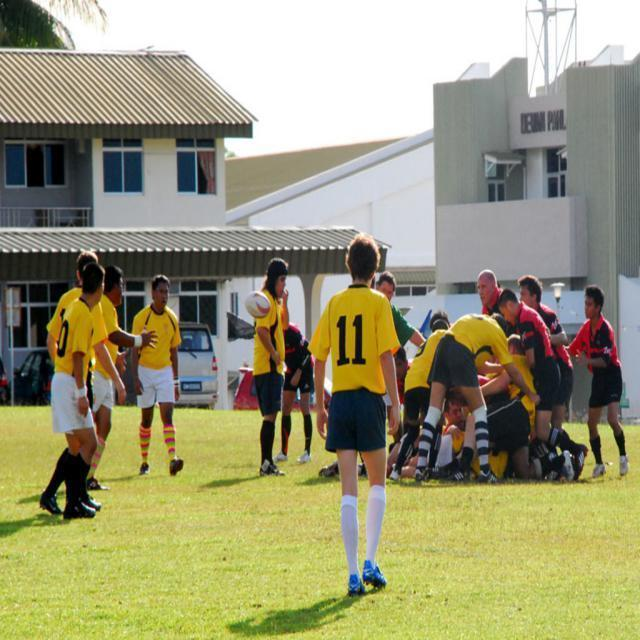ball: (244, 290, 274, 321)
